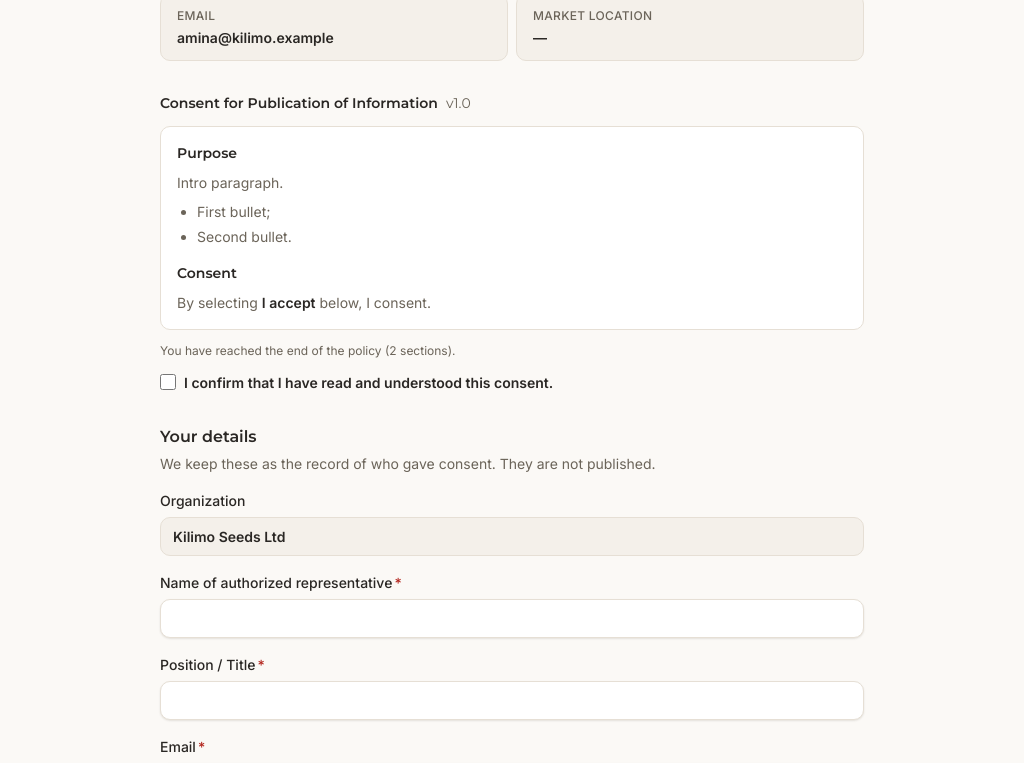
Test: Accept (FR-9, FR-10) › maps API details to the named field and stays on the form
The width and height of the screenshot is (1024, 763).
(page scrolled)
Click the checkbox.
click(168, 382)  # box [160,374,176,390]
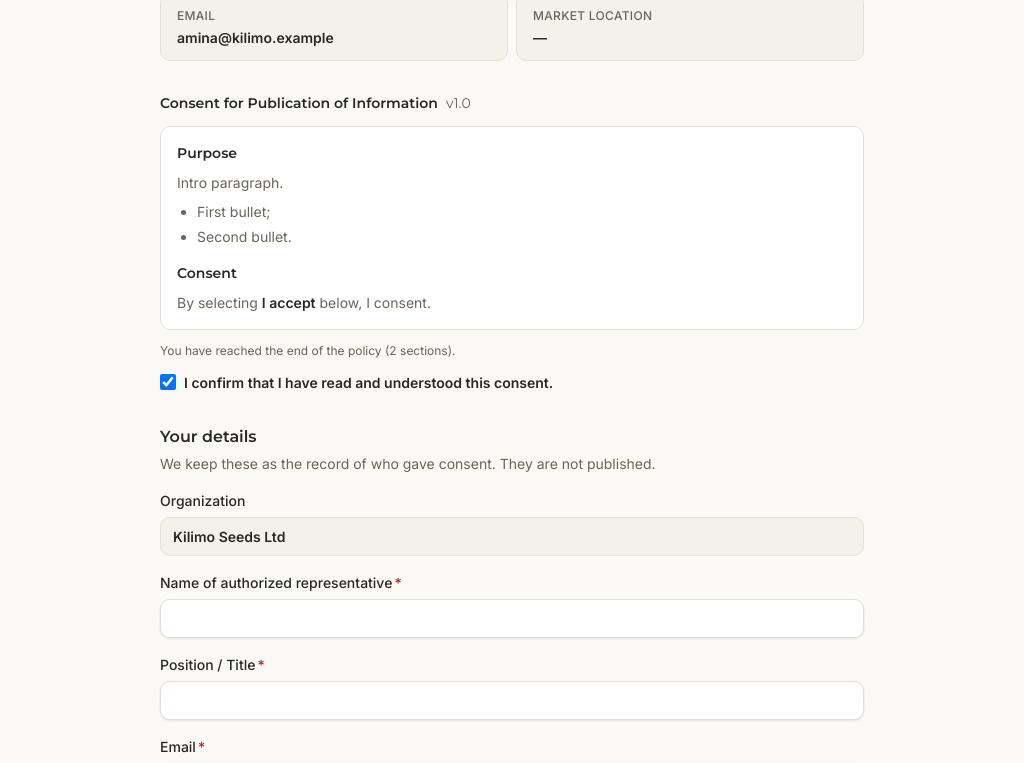
Type "Amina Juma" into the field labelled "Name of authorized representative*".
click(512, 618); type("Amina Juma")  # box [160,598,864,638]
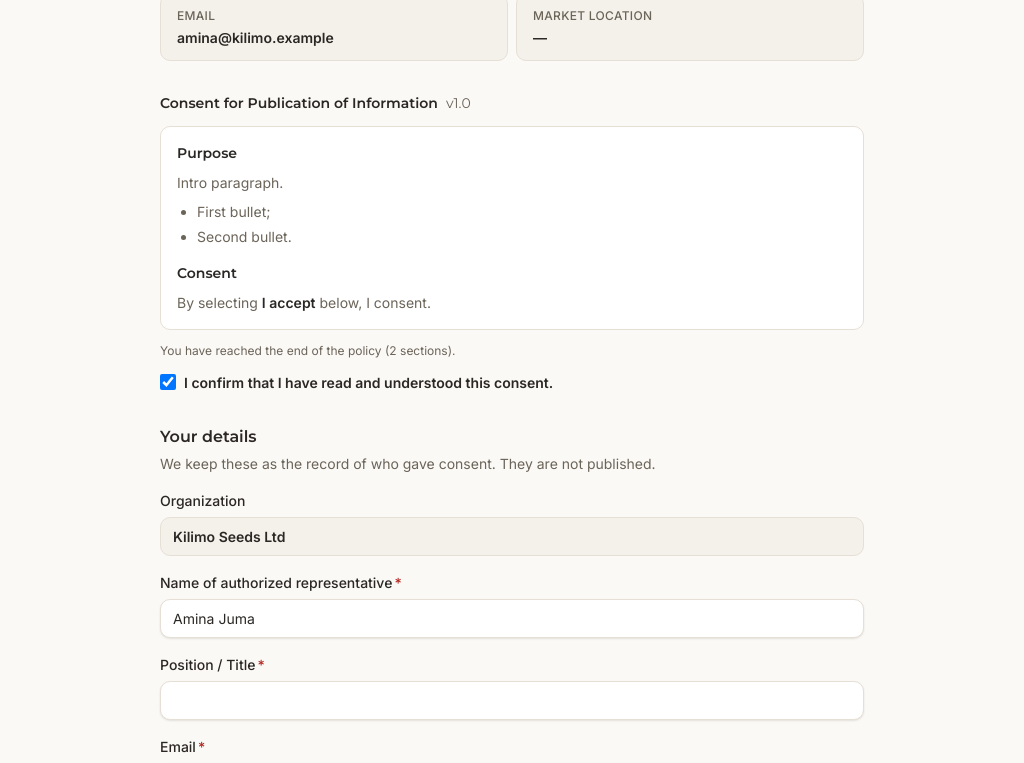
Type "Director" into the field labelled "Position / Title*".
click(512, 700); type("Director")  # box [160,680,864,720]
(page scrolled)
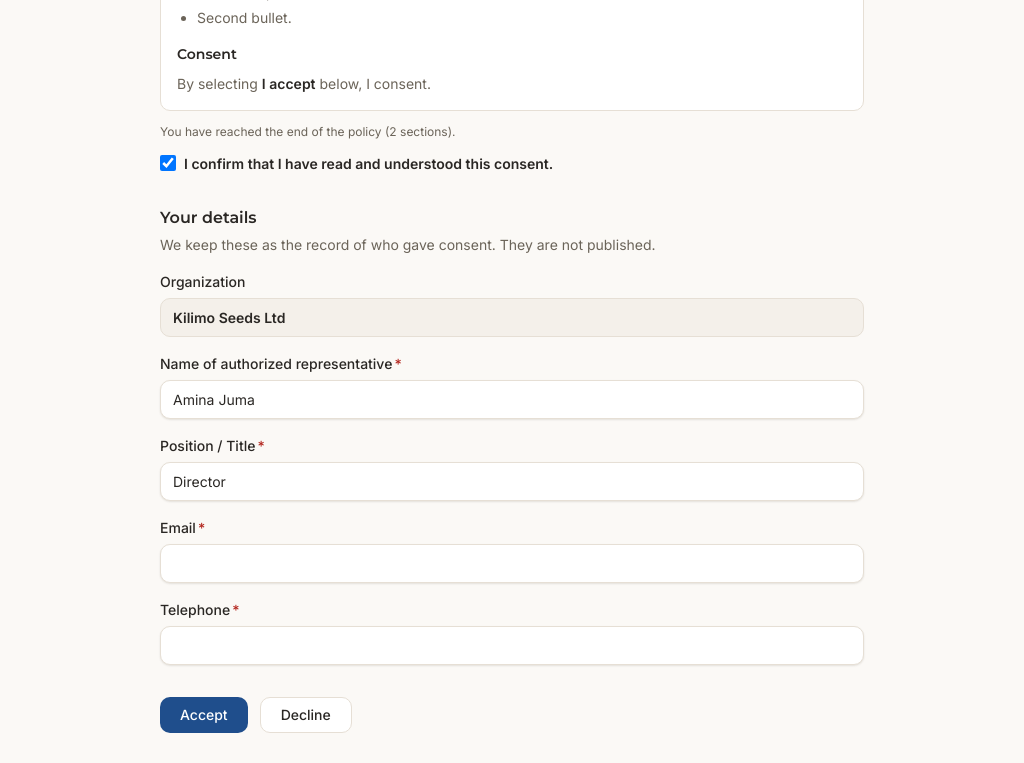
Type "amina@kilimo.example" into the field labelled "Email*".
click(512, 563); type("amina@kilimo.example")  # box [160,544,864,582]
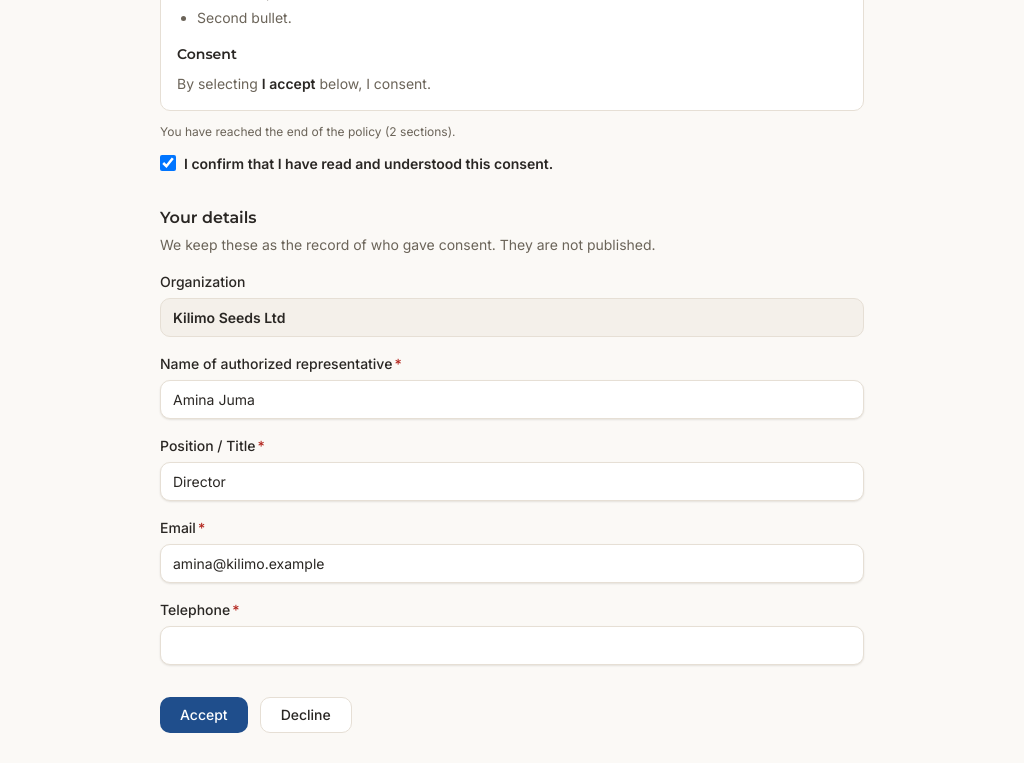
Type "+255700111222" into the field labelled "Telephone*".
click(512, 645); type("+255700111222")  # box [160,626,864,664]
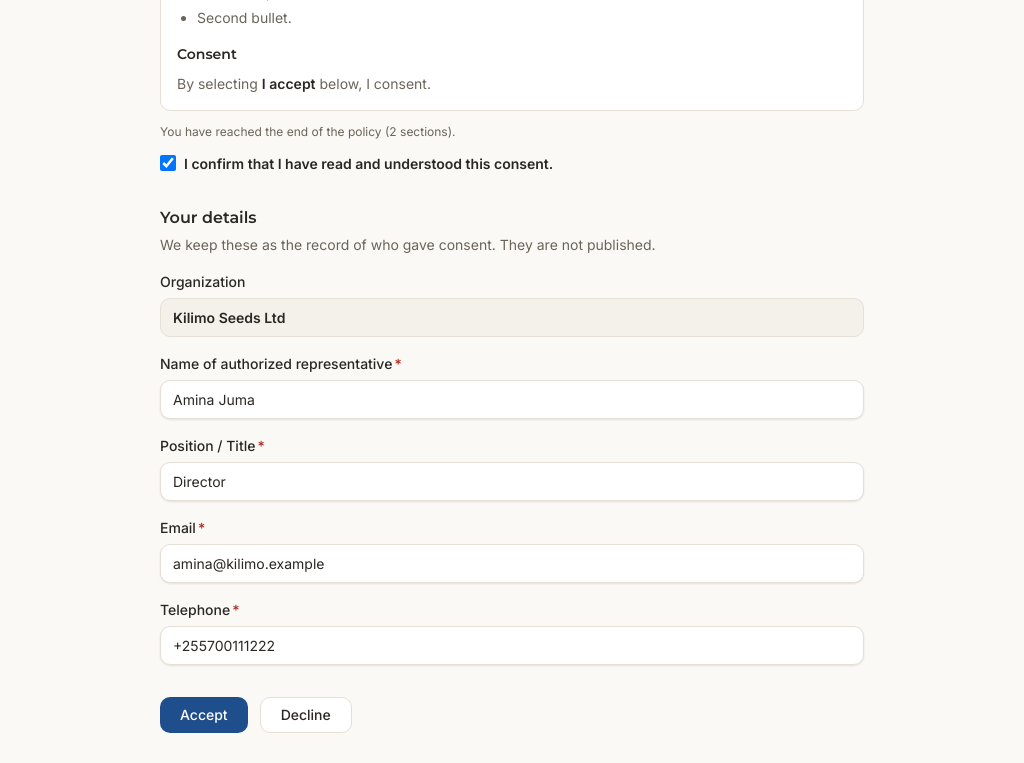
Click the button "Accept".
click(204, 714)  # box [160,696,248,732]
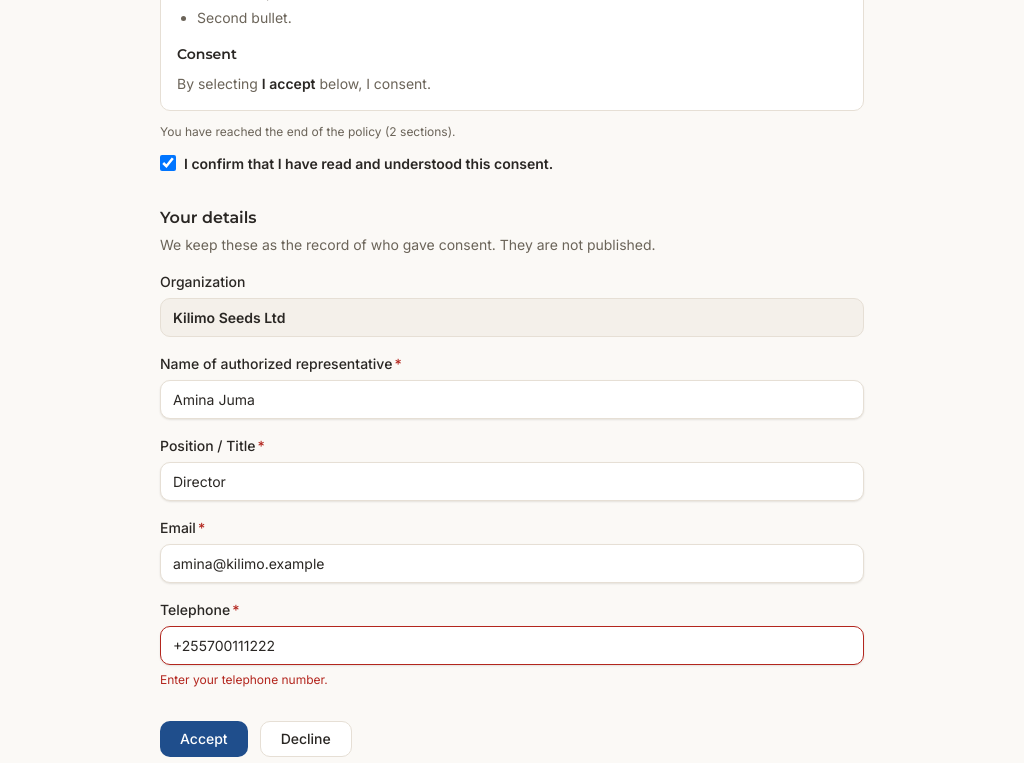
Now the text "Enter your telephone number." is shown, box [160,672,328,686]
